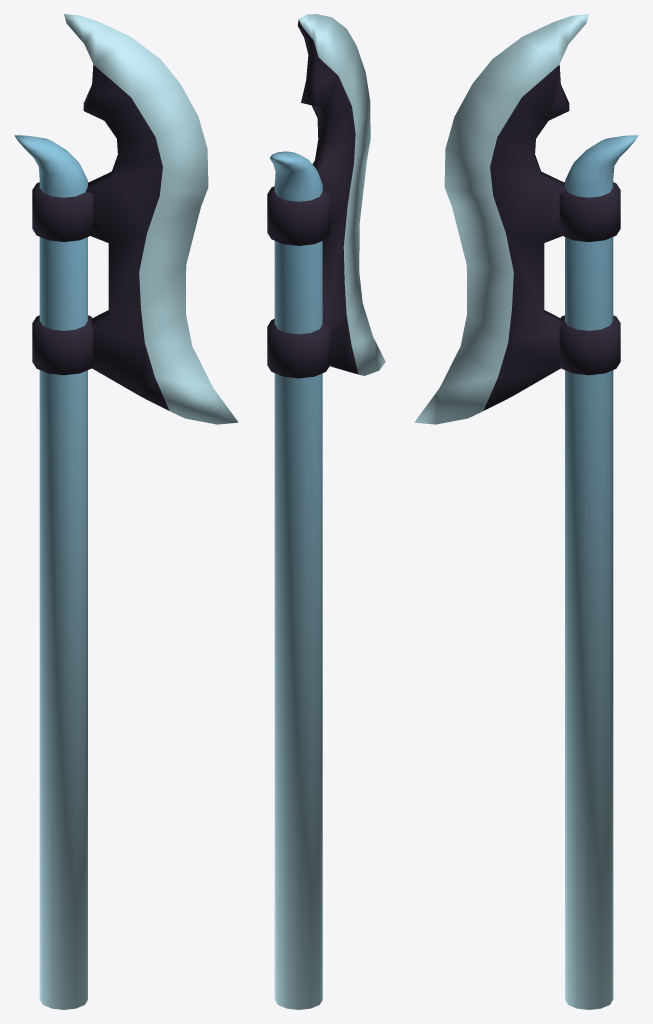
File: Voulge.FBX
The picture shows the model from 3 angles, left to right: view 1: azimuth 90°, elevation 25°; view 2: azimuth 150°, elevation 25°; view 3: azimuth 270°, elevation 25°; orthographic projection.
Parts seen in each view (by area): view 1: Voulge; view 2: Voulge; view 3: Voulge.
Part boxes in pixels (x1,y1,x2,y2): Voulge: (14,14,238,1009); Voulge: (267,14,385,1009); Voulge: (414,14,638,1009).
Size of the model in its own units: 2.47 by 42.28 by 8.73.
